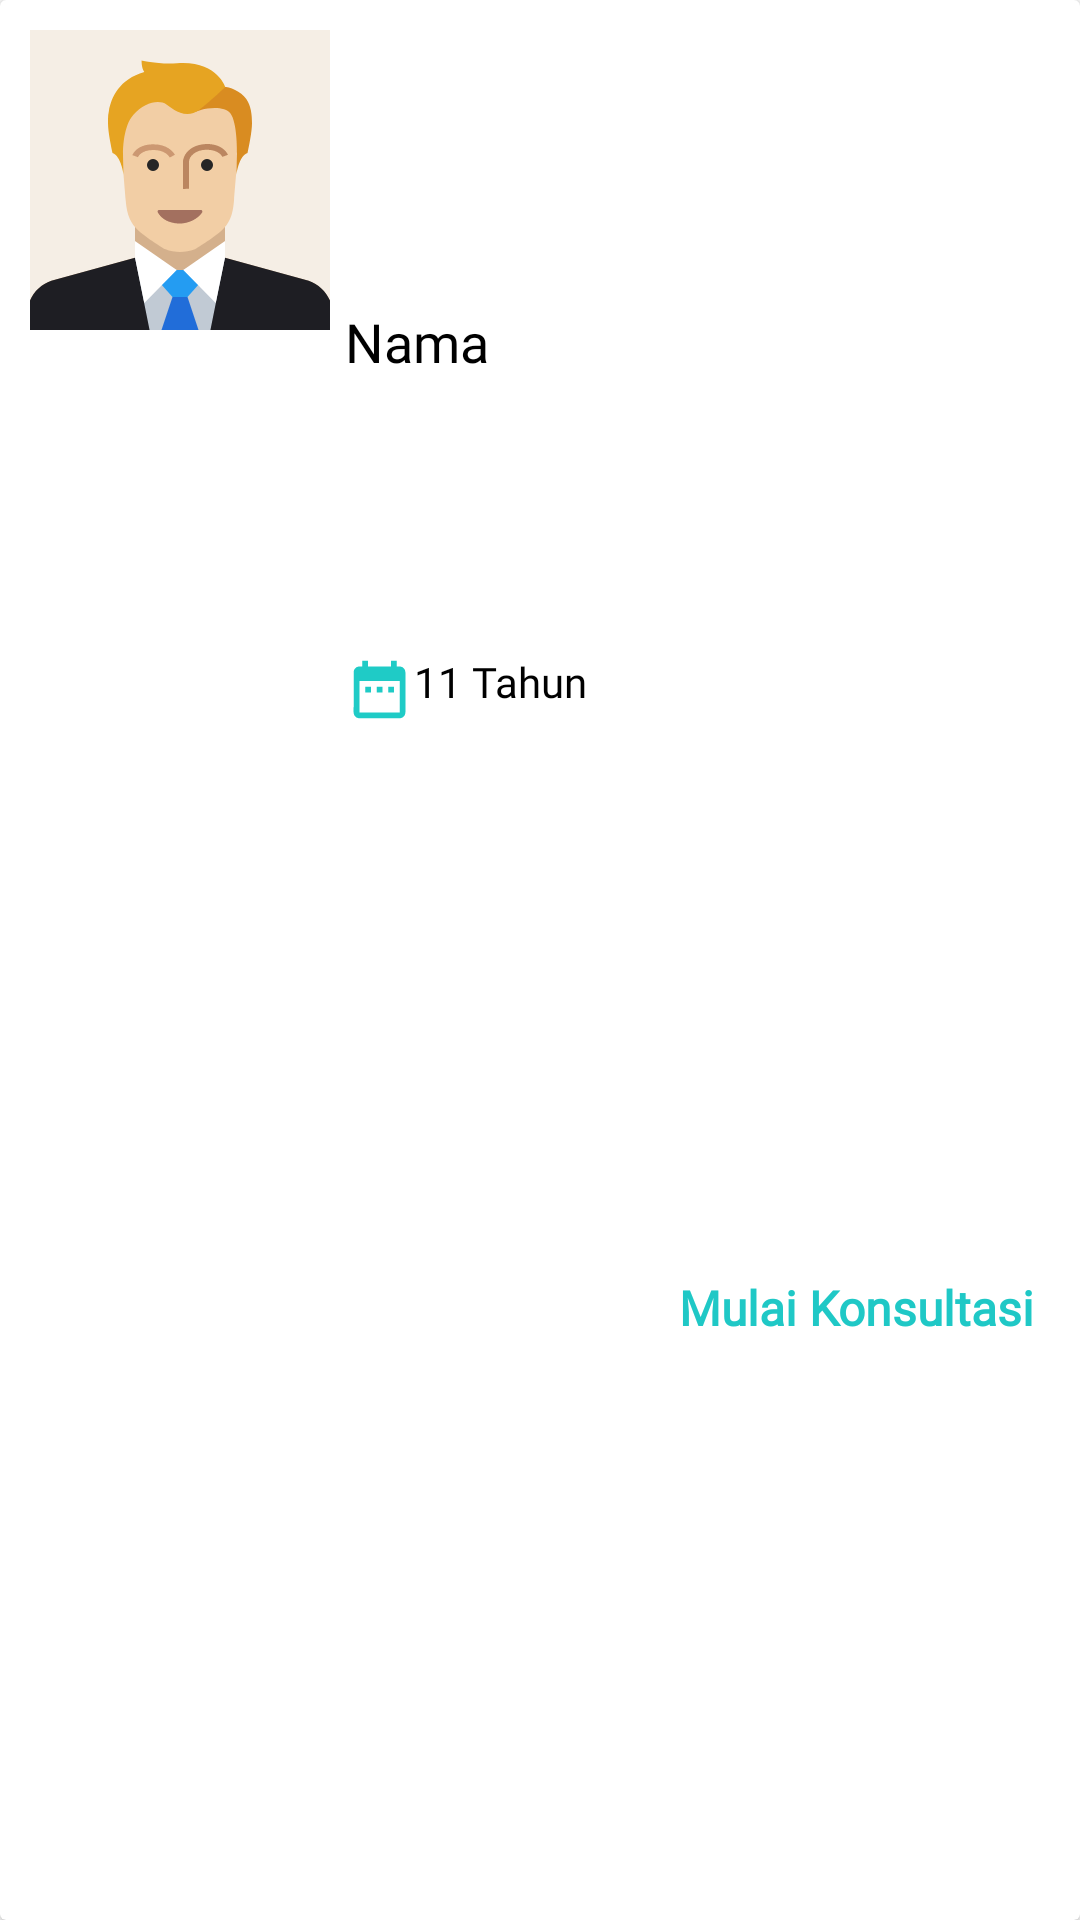

Named icons in this screenshot (1080×1920) and their centers, (x=x, y=y):
date range: (x=379, y=689)
man: (x=180, y=180)
